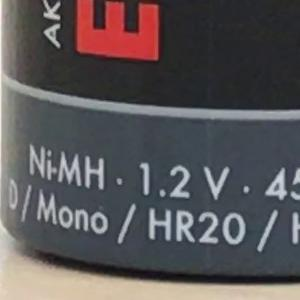keyword: (140, 204, 250, 250)
